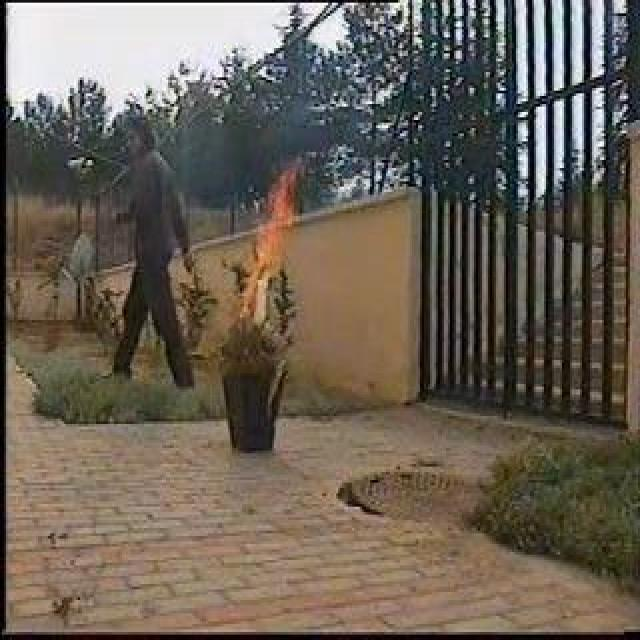fire: (253, 178, 289, 277)
